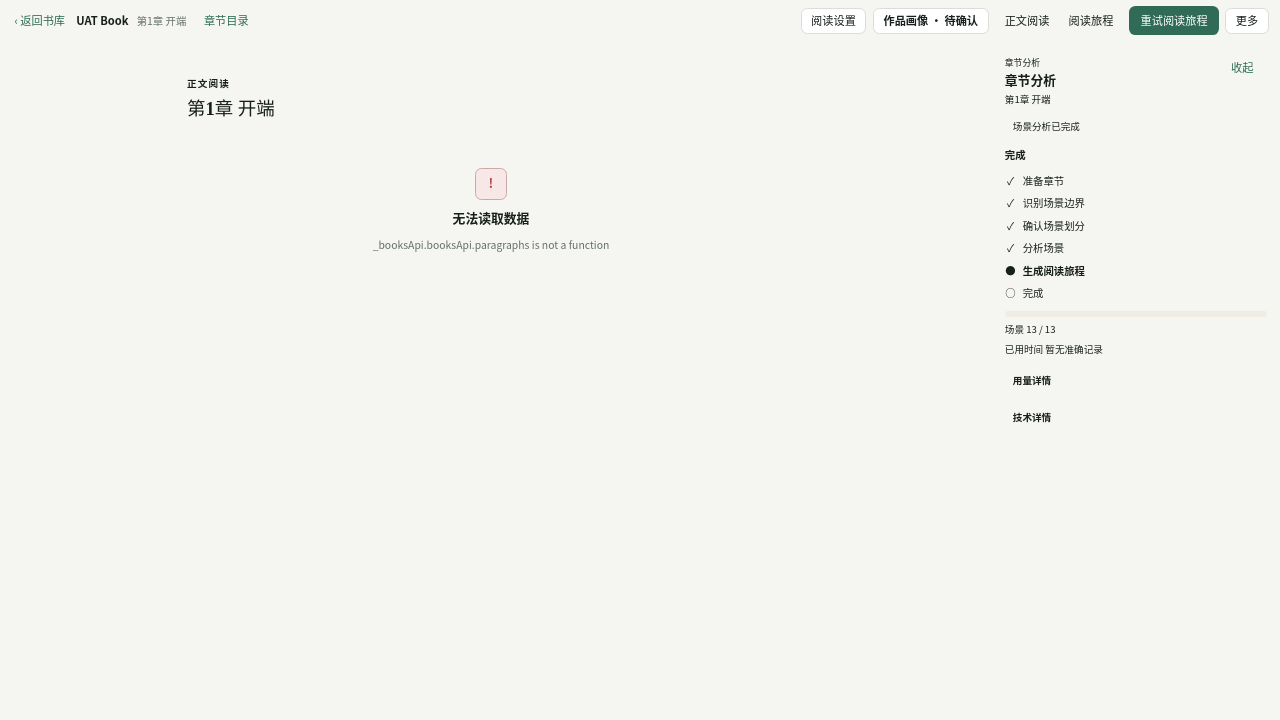
BookRoutePage reader journey resume entry › CHG-023: retryable journey failure shows failed StateView, not interrupted
Click the tab with test id "workspace-tab-journey" at (1091, 21), box 1059,6 -> 1123,35
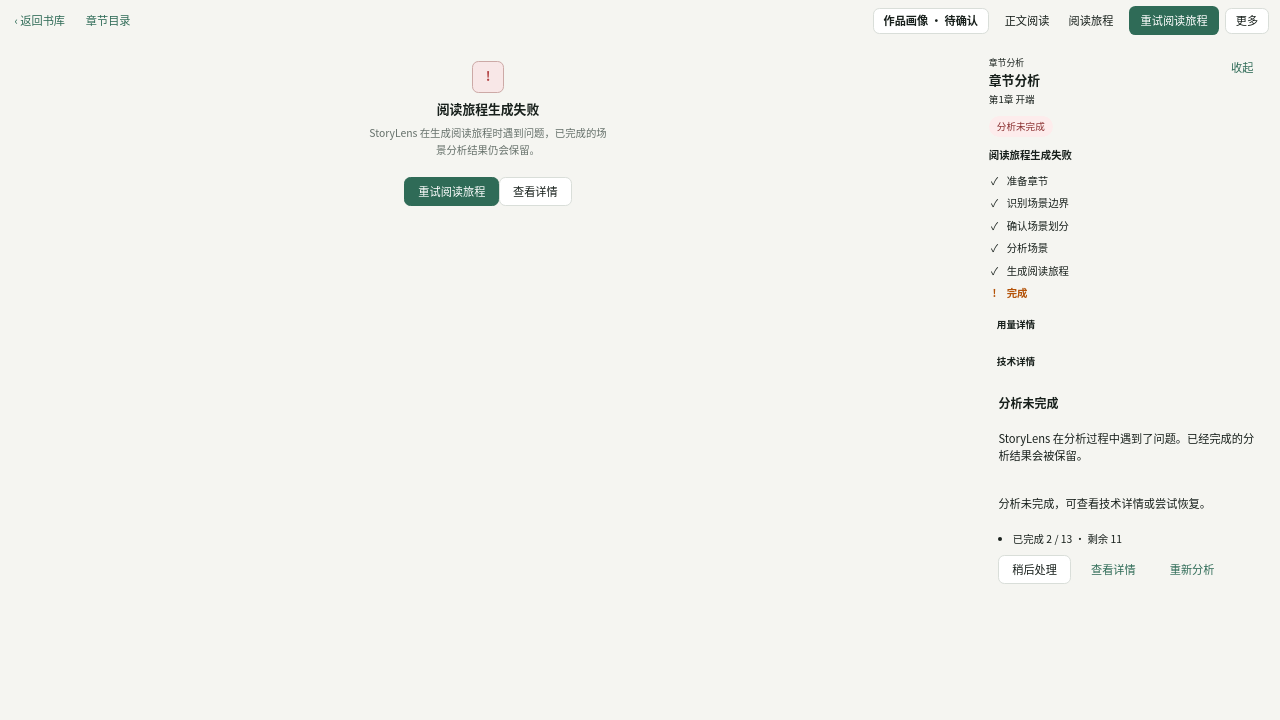
Expected: the message "! 阅读旅程生成失败 StoryLens 在生成阅读旅程时遇到问题，已完成的场景分析结果仍会保留。 重试阅读旅程 查看详情" is shown, 369,61 -> 607,206
Expected: the message with test id "journey-failed" shows "阅读旅程生成失败", 437,99 -> 539,118
Expected: the button with test id "journey-failed-retry" reads "重试阅读旅程", 404,177 -> 499,206
